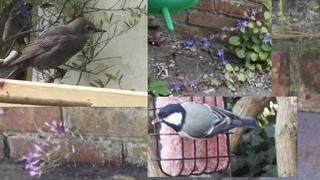great tit: (151, 101, 257, 139)
starling: (6, 17, 108, 83)
